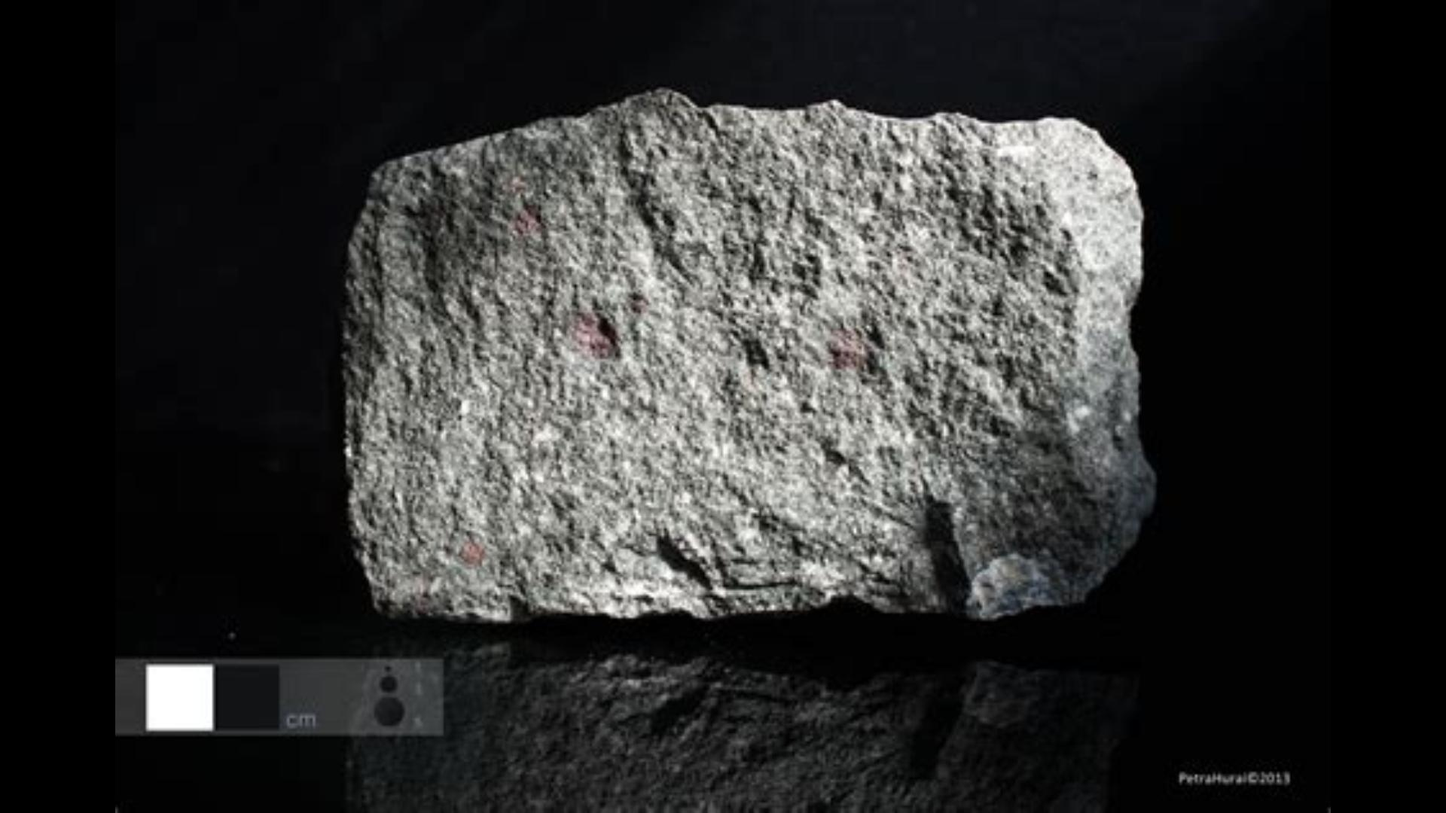rock: (349, 92, 1147, 616)
